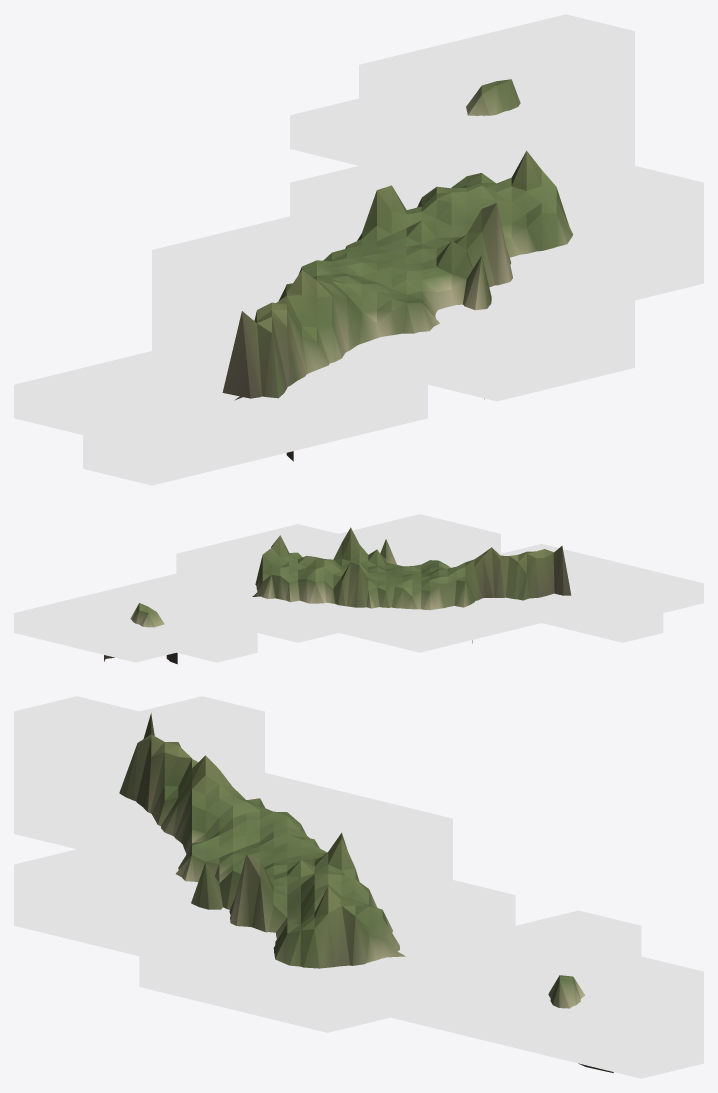
File: landmark-fernando-de-noronha-low.v1.glb
3 renders of one model, top to bottom at view 1: azimuth 30°, elevation 25°; view 2: azimuth 150°, elevation 25°; view 3: azimuth 270°, elevation 25°, orthographic. The views are drawn at different scales.
Visible parts, largest first — view 1: surf, island; view 2: surf, island; view 3: surf, island.
Part boxes in pixels (box(x1,y1,x2,y2)): surf: box(14, 14, 703, 485); island: box(222, 79, 572, 461); surf: box(14, 514, 703, 662); island: box(104, 527, 571, 664); surf: box(14, 696, 703, 1078); island: box(119, 713, 613, 1072).
Size of the model in its own units: 47.25 by 7.35 by 36.01.
